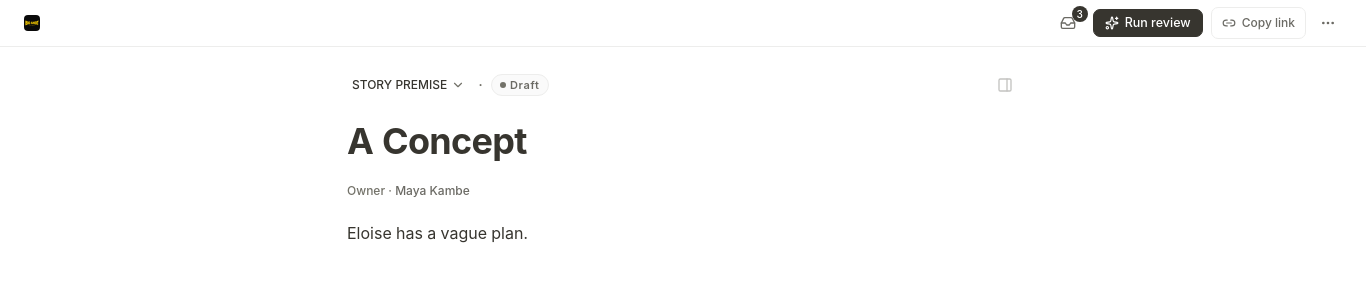
DocumentPage — TopBar review inbox › renders the review inbox in the TopBar and lists this project's queue (edit mode)
Click the button named "Review inbox" at (1068, 23), box [1051,9,1085,37]
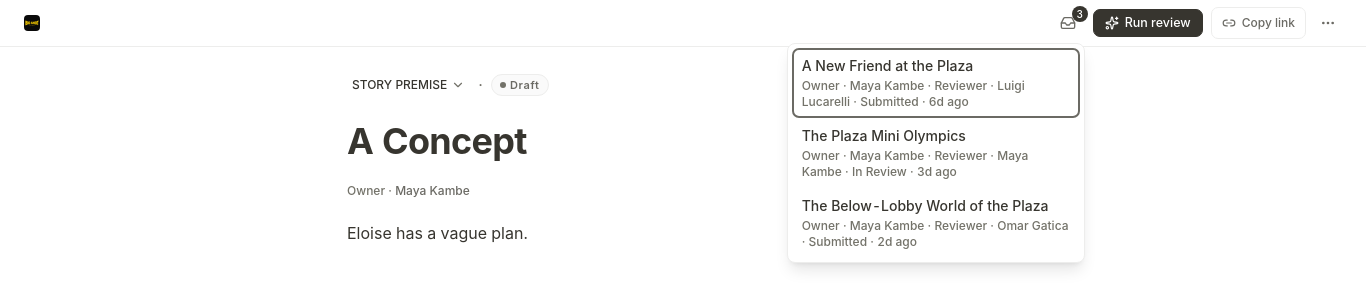
expect the number of menu items is 3: met, box [792,48,1080,118]; [802,127,1028,179]; [792,188,1080,258]
